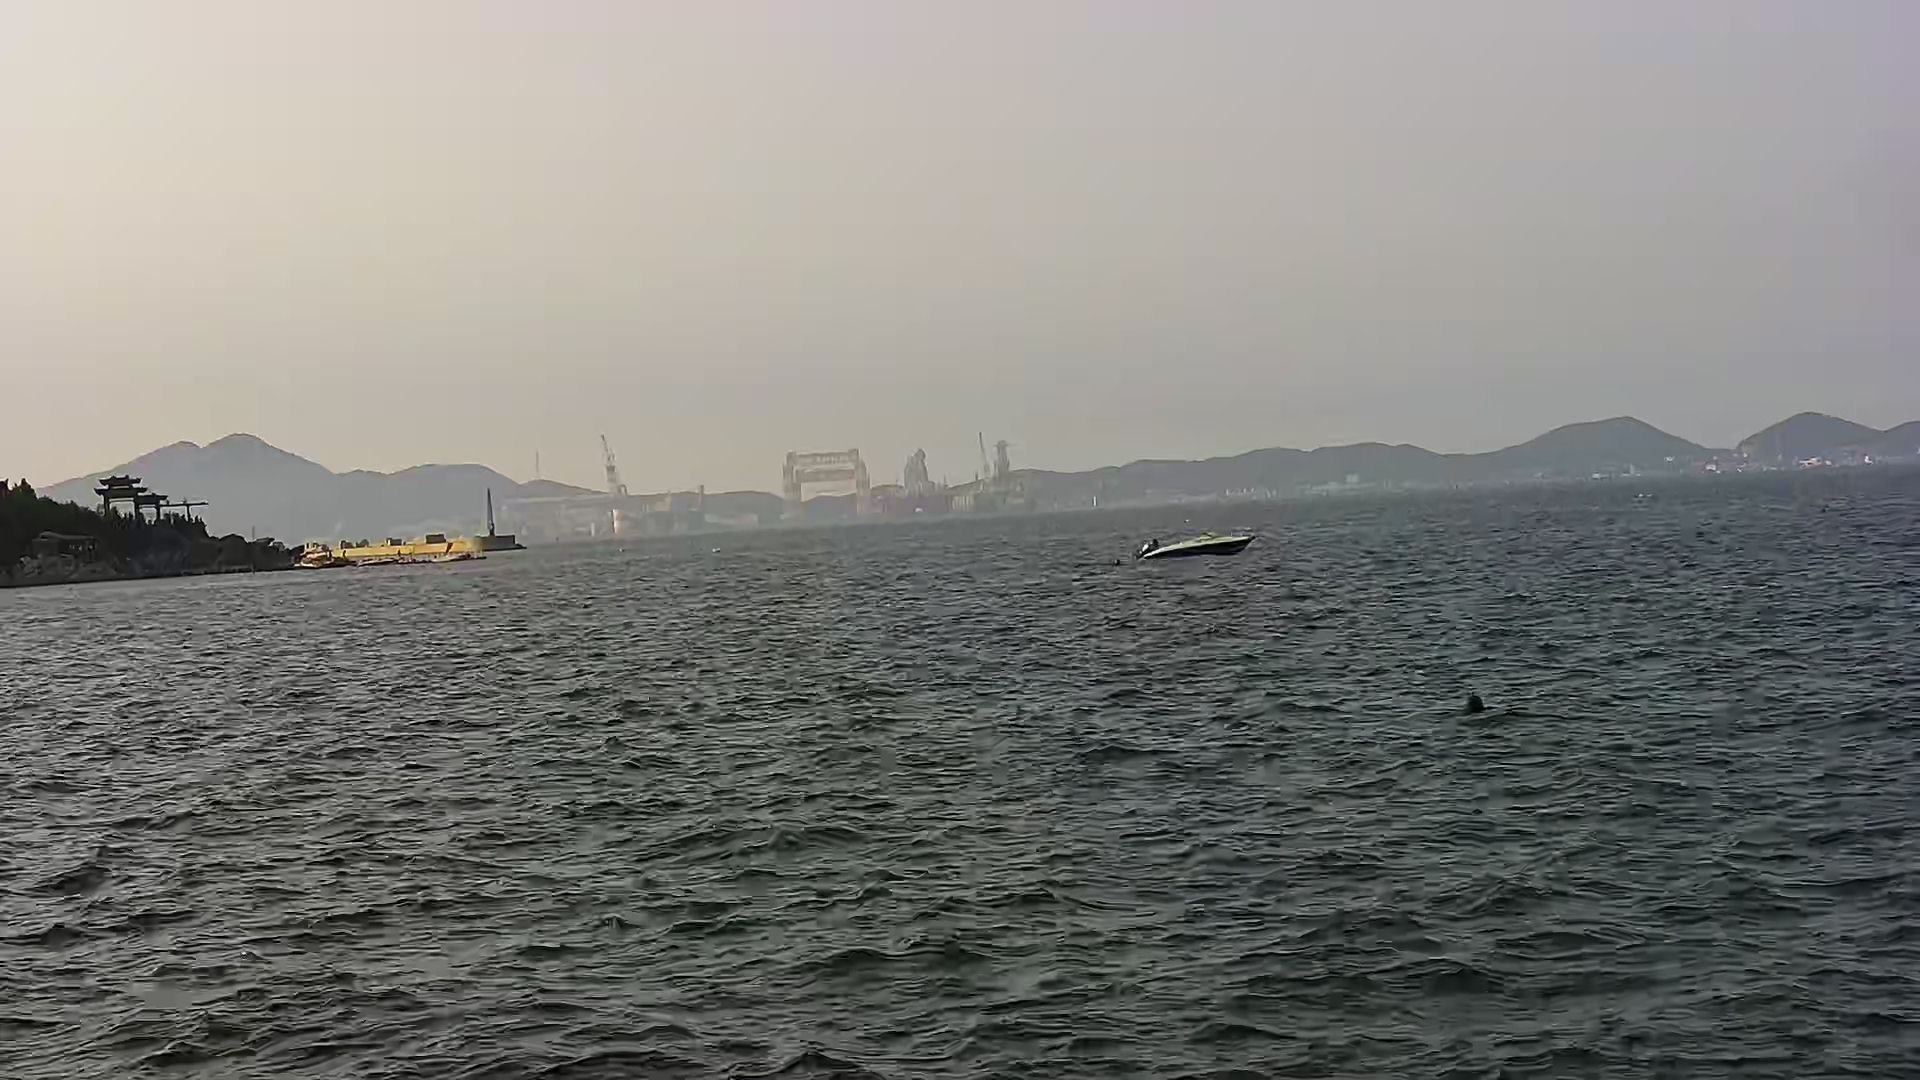boat: (1129, 522, 1263, 574)
harbor: (301, 487, 525, 563)
